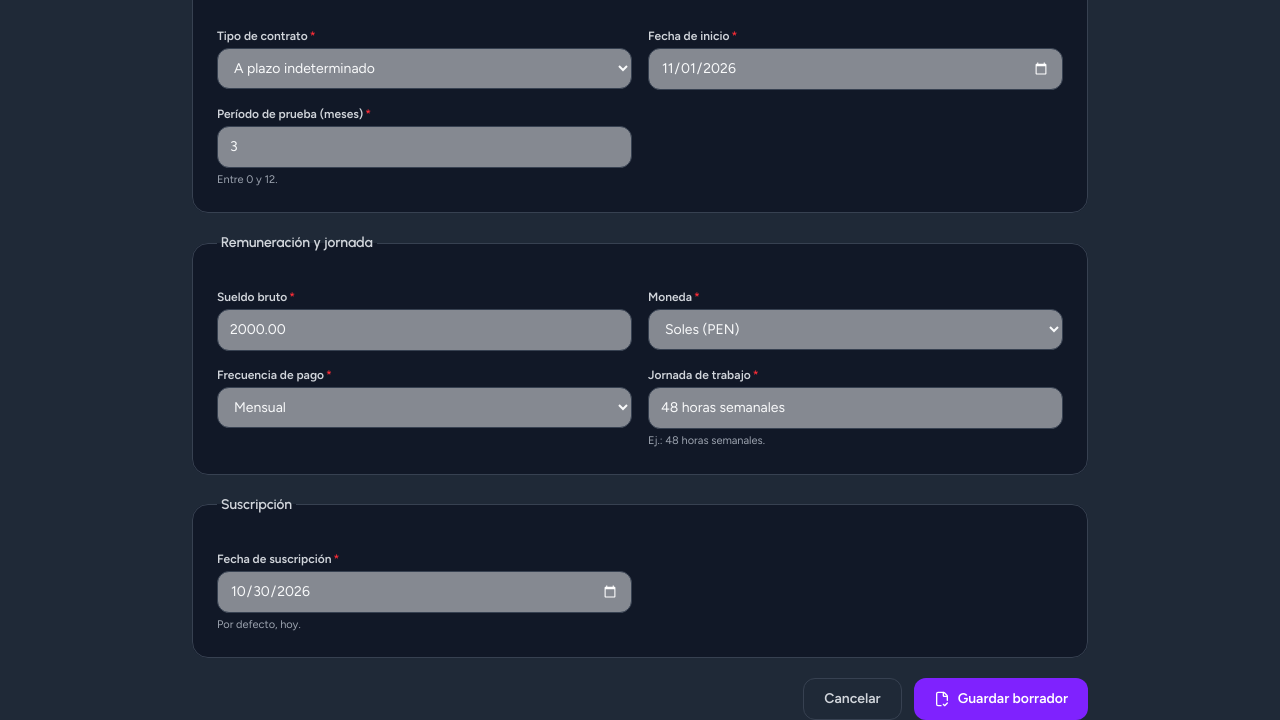
Test: HRDocumentCreatePage — edición de borrador › 400 por campo del backend al guardar se pinta en el campo
The width and height of the screenshot is (1280, 720).
(page scrolled)
Click the button "Guardar borrador" at coordinates (1001, 699), box x1=914 y1=678 x2=1088 y2=719
(page scrolled)
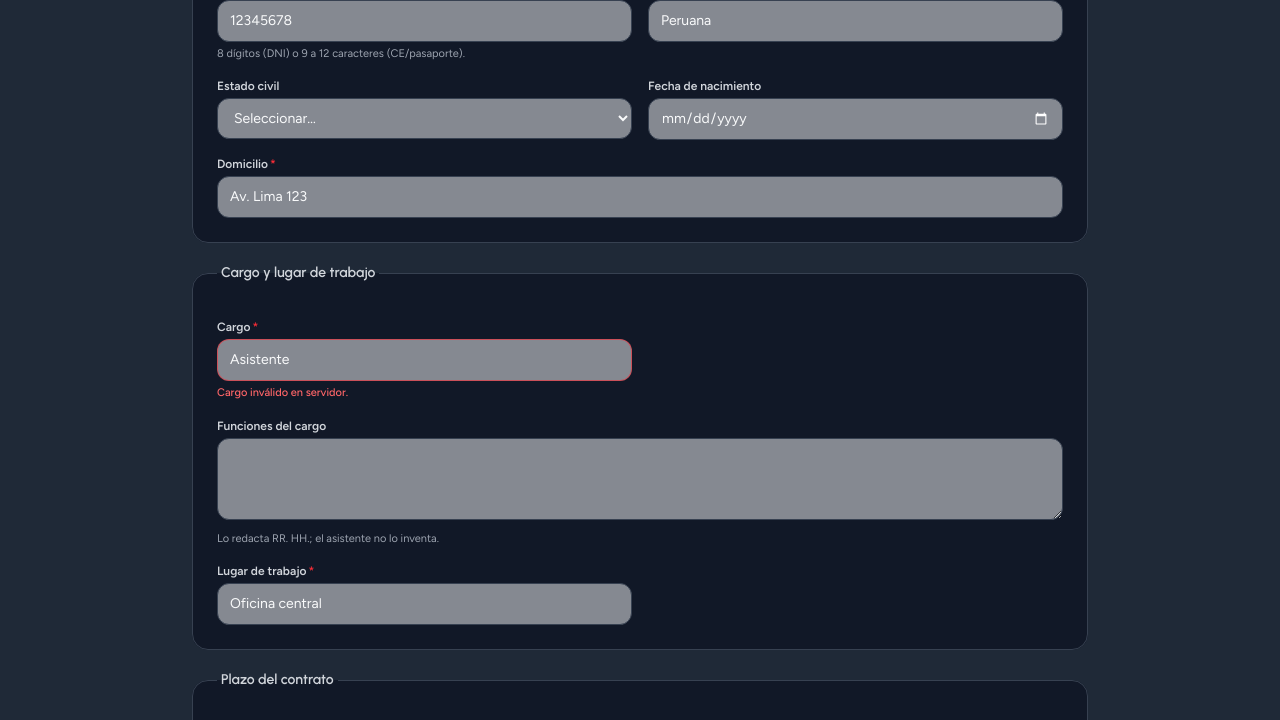
Result: the text "Cargo inválido en servidor." is shown at x1=217 y1=386 x2=348 y2=399
